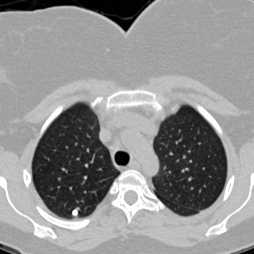nodule: (71, 209, 79, 217)
